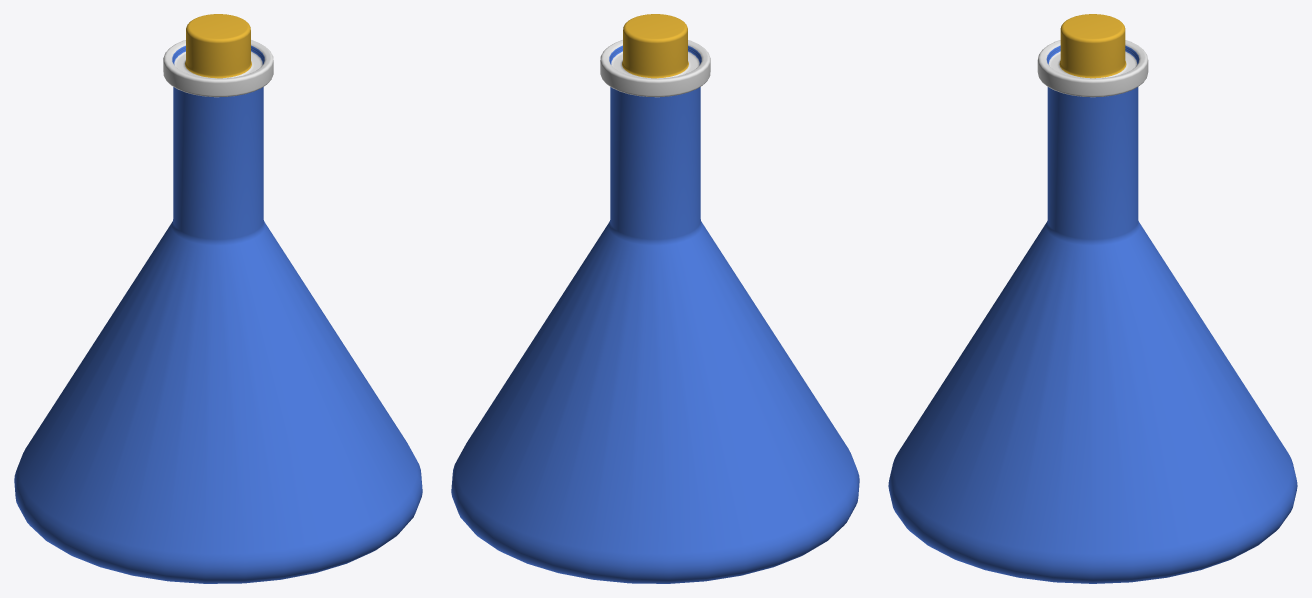
Rendered from science2.fbx.
The picture shows the model from 3 angles, left to right: view 1: azimuth 30°, elevation 25°; view 2: azimuth 150°, elevation 25°; view 3: azimuth 270°, elevation 25°; orthographic projection.
Parts seen in each view (by area): view 1: Cylinder; view 2: Cylinder; view 3: Cylinder.
Boxes of the visible parts, left/top/right/bottom form: Cylinder: left=14, top=14, right=422, bottom=583; Cylinder: left=451, top=14, right=859, bottom=583; Cylinder: left=888, top=14, right=1297, bottom=583.
Size of the model in its own units: 144 by 186 by 144.
